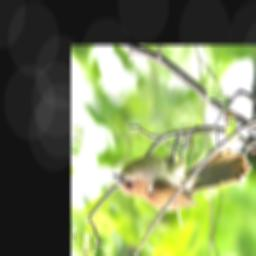Cuckoo: (112, 124, 253, 211)
